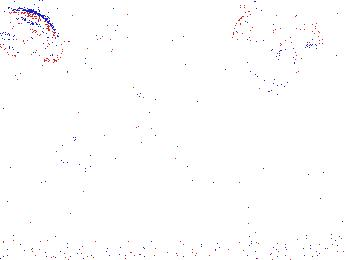moon jellyfish: (77, 93, 161, 167), (229, 13, 300, 94), (94, 3, 177, 71), (1, 8, 64, 65), (247, 13, 325, 52)
